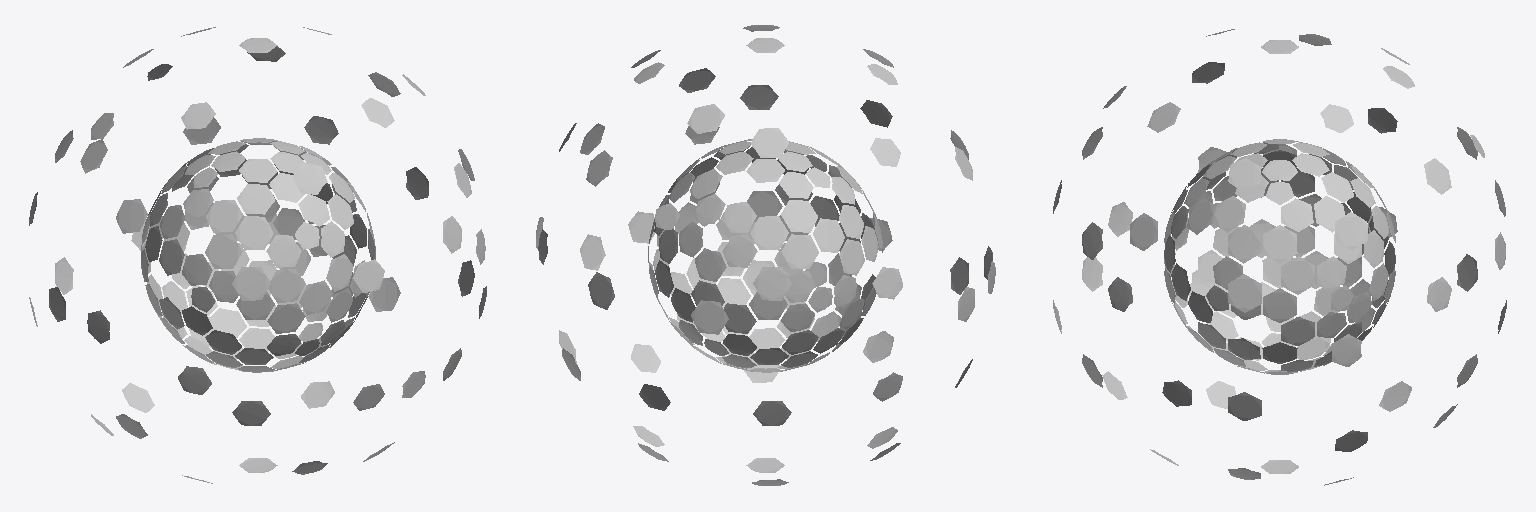
File: hexx02.obj
3 views of the same model, side by side, from view 1: azimuth 30°, elevation 25°; view 2: azimuth 150°, elevation 25°; view 3: azimuth 270°, elevation 25° (orthographic).
Visible parts, largest first — view 1: Subdivision_Surface; view 2: Subdivision_Surface; view 3: Subdivision_Surface.
Part boxes in pixels (x1,y1,x2,y2): Subdivision_Surface: (29,27,486,483); Subdivision_Surface: (536,25,995,485); Subdivision_Surface: (1053,29,1506,485).
Size of the model in its own units: 384 by 389 by 380.